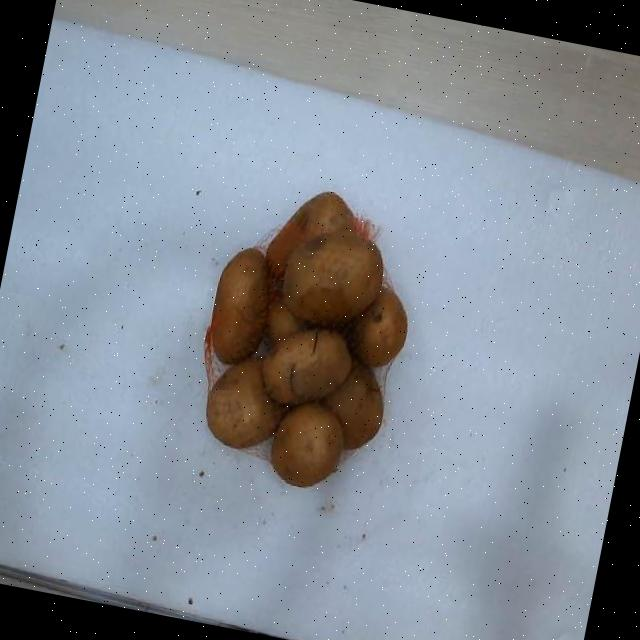potato: (283, 232, 383, 326), (267, 192, 355, 276), (206, 359, 285, 448), (262, 329, 352, 404), (211, 248, 267, 364), (271, 402, 344, 487), (325, 364, 383, 449), (347, 286, 408, 366)
